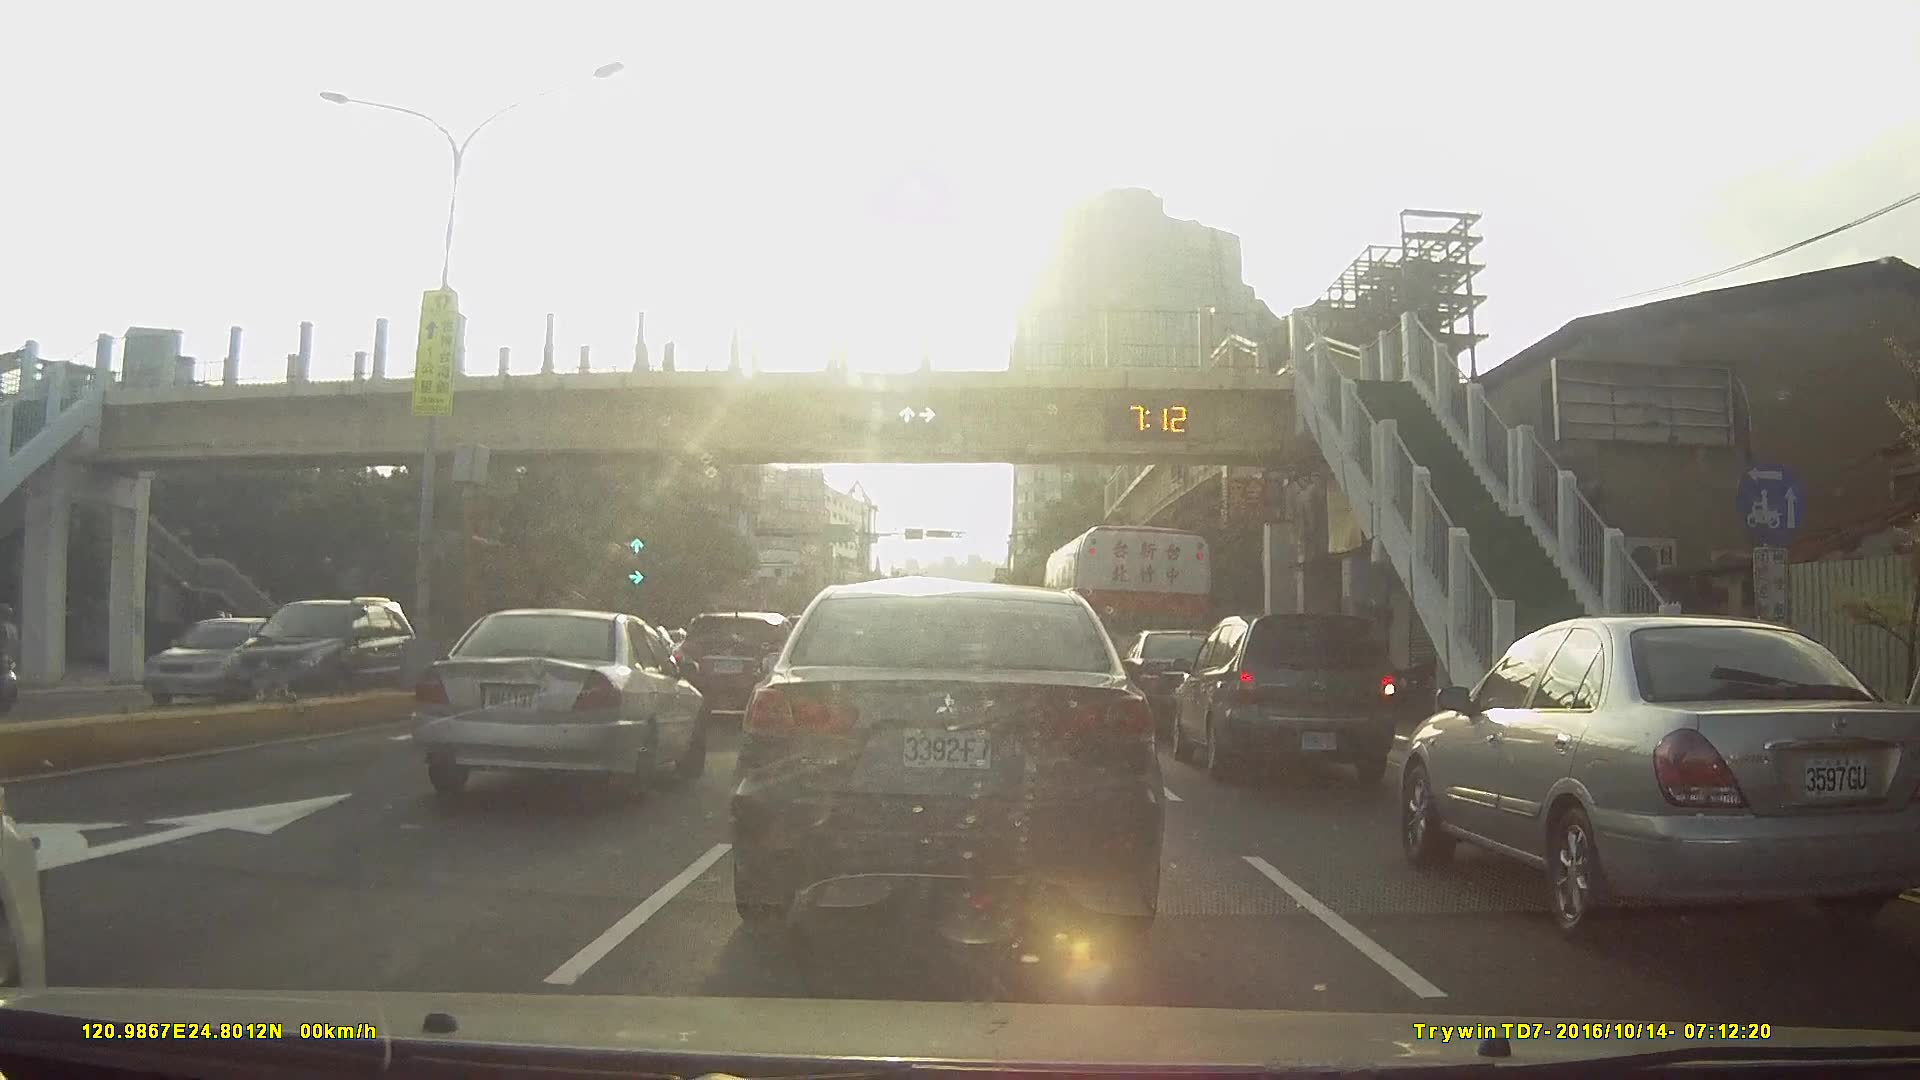rider: (1, 609, 21, 709)
vehicle: (1408, 610, 1920, 944), (727, 572, 1168, 953), (418, 604, 711, 790), (1175, 608, 1417, 784), (209, 587, 434, 709), (131, 615, 306, 706), (674, 603, 805, 714), (1121, 627, 1255, 732)
